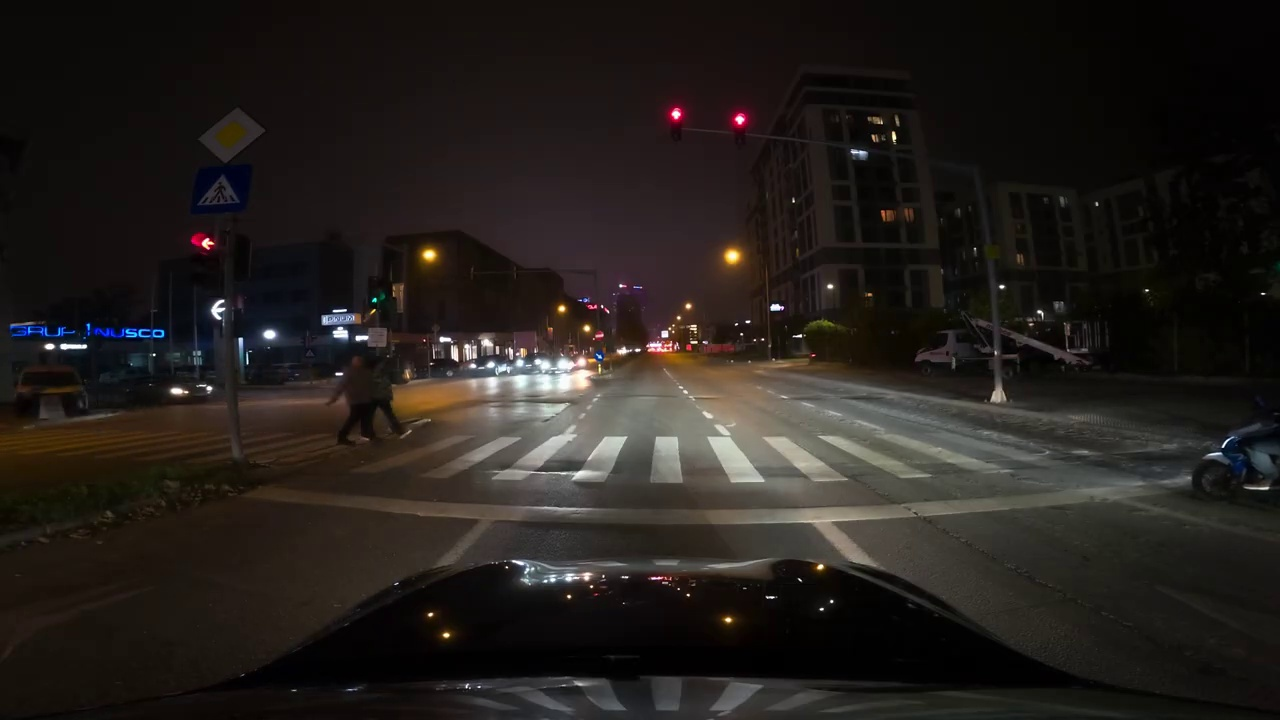acesa: (720, 244, 746, 269), (416, 243, 442, 268)
